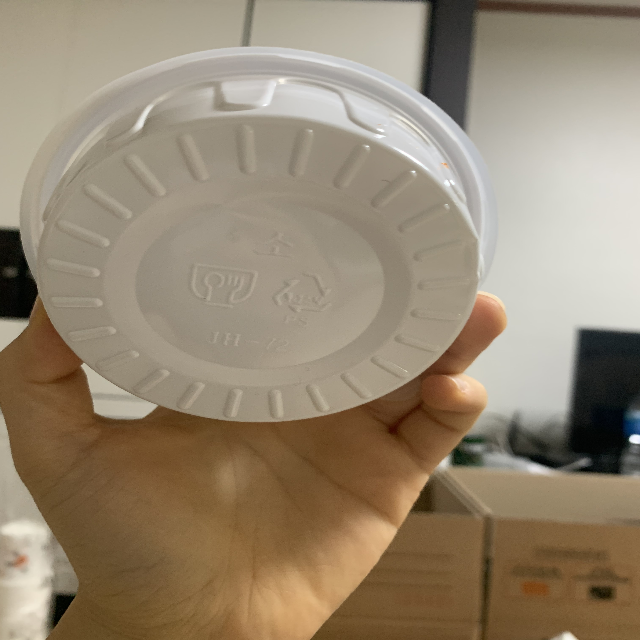ps: (272, 265, 336, 331)
